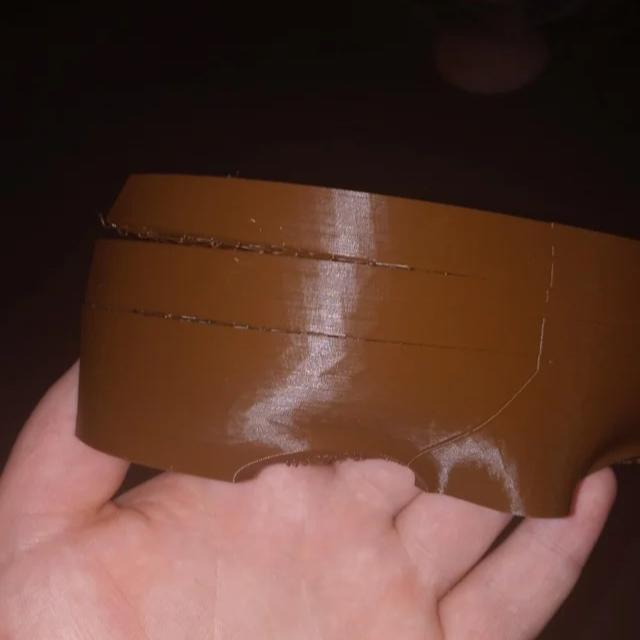Warping: (93, 213, 363, 270), (81, 292, 306, 343)
